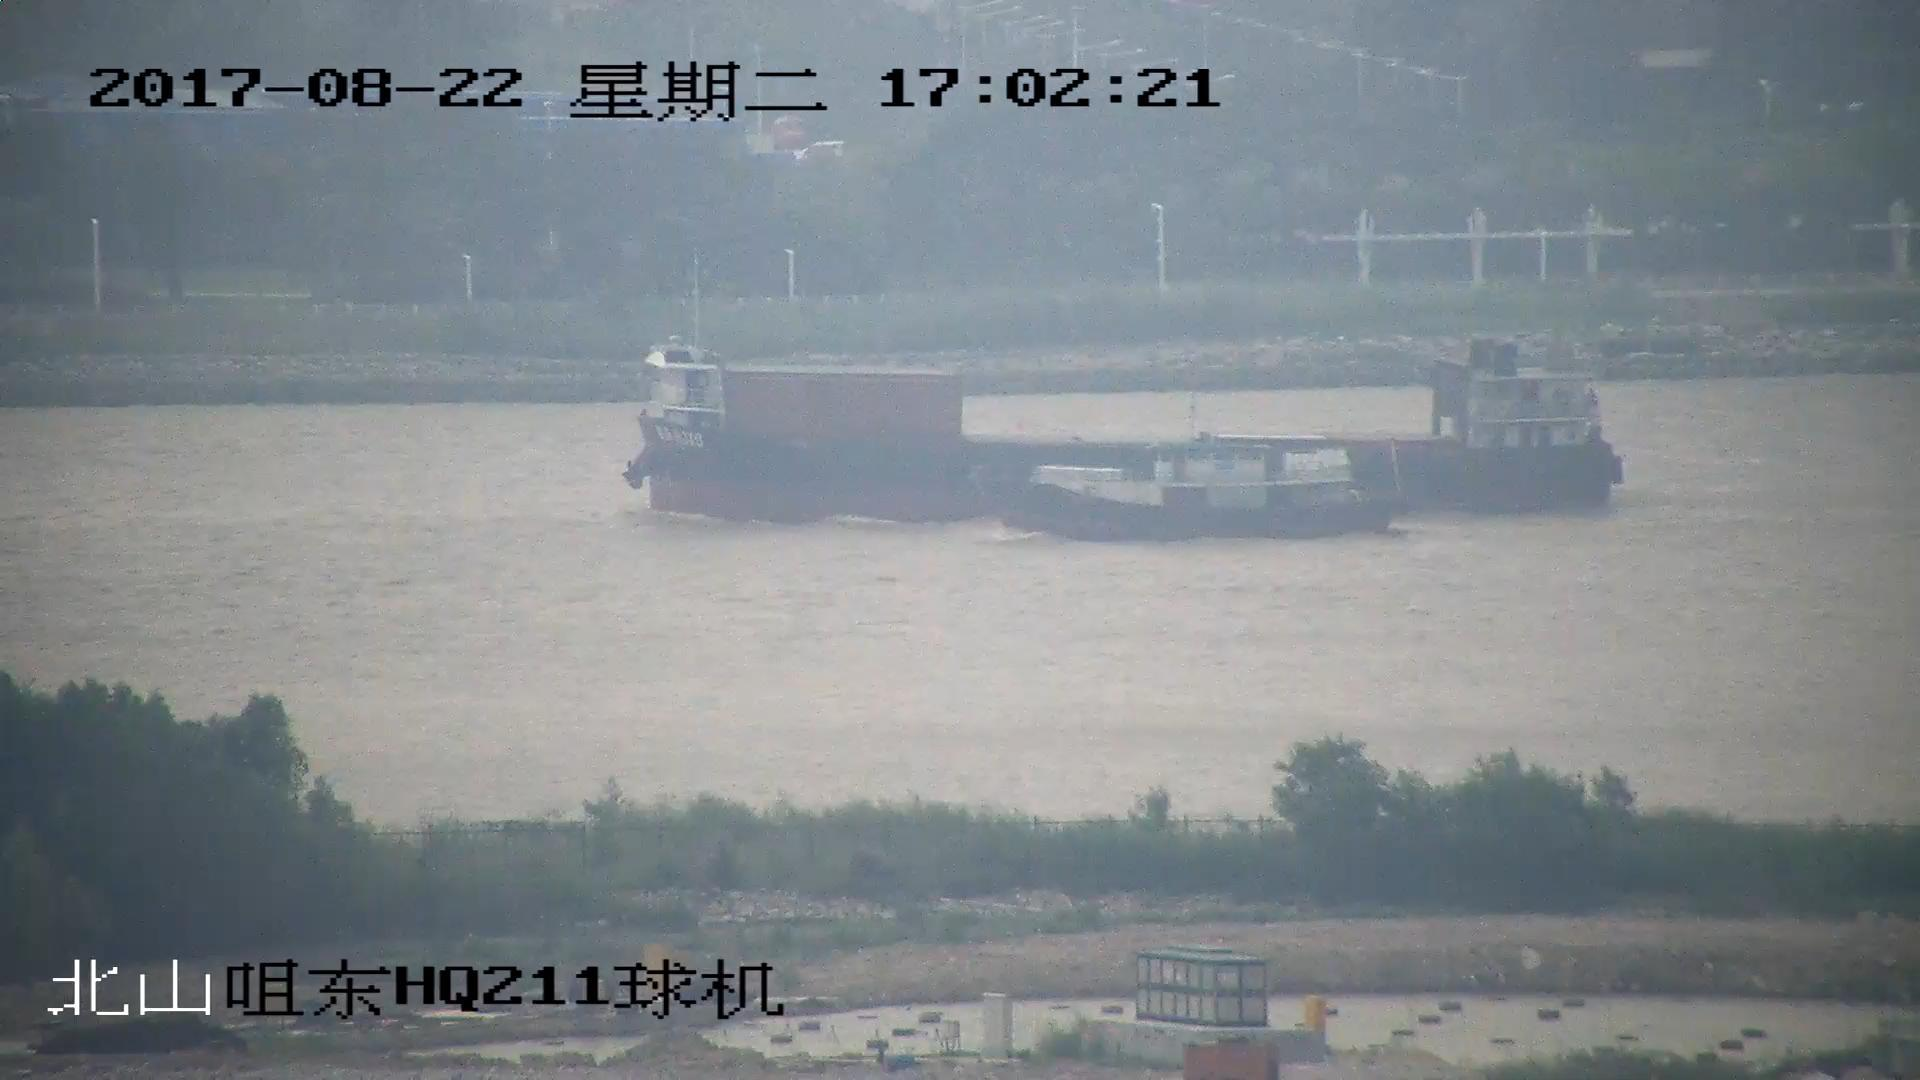Ship: (618, 328, 1626, 516), (998, 436, 1386, 545)
